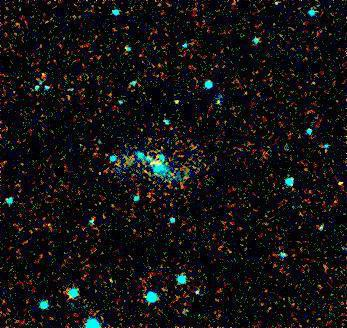star: (323, 166, 347, 196)
